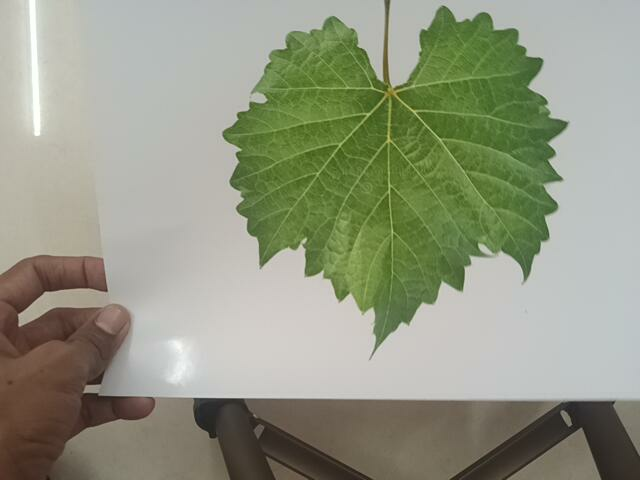Grape_Healthy: (204, 2, 576, 364)
